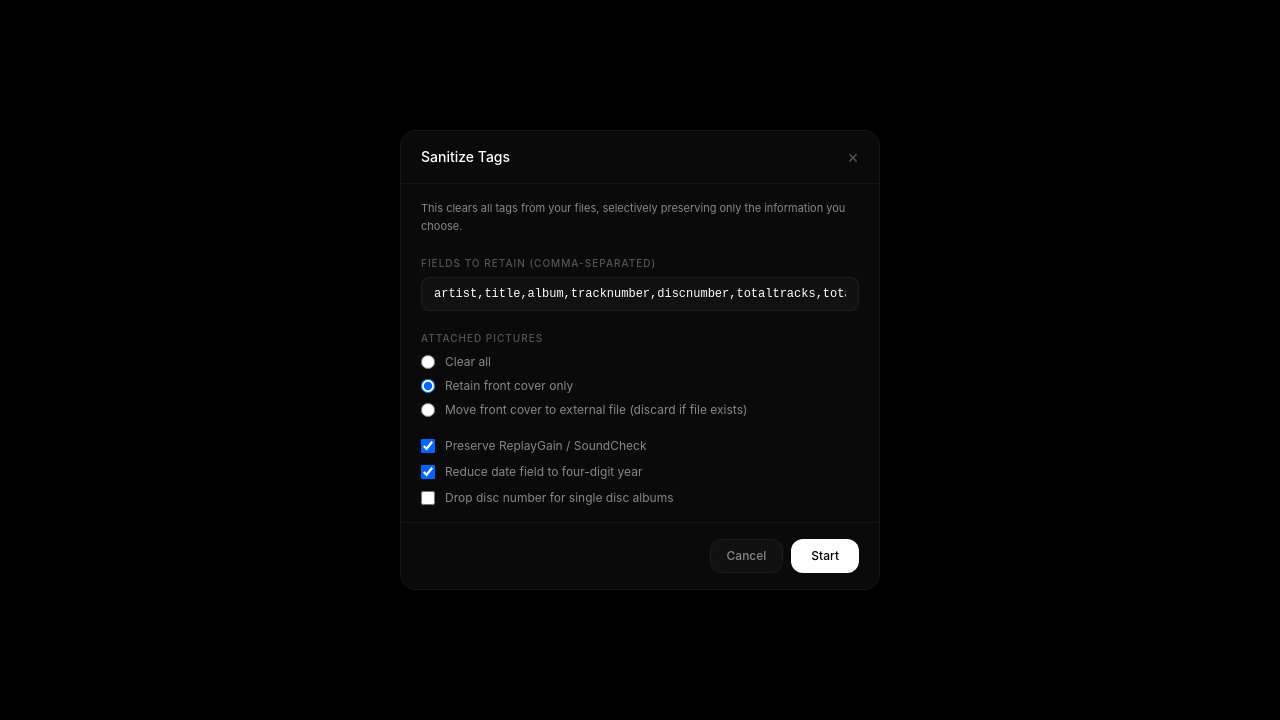
Test: TagSanitizerModal › shows confirmation step after clicking Start
The width and height of the screenshot is (1280, 720).
Click the button "Start".
click(825, 556)  # box [791,539,859,573]
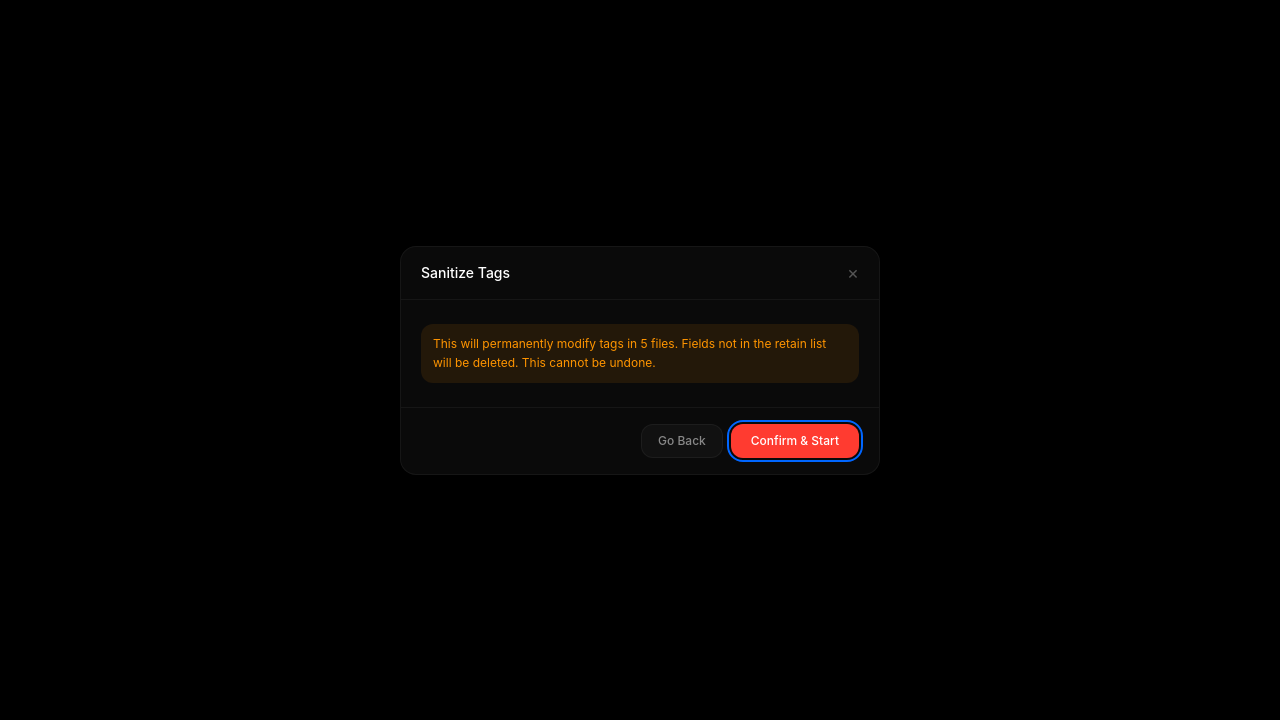
Expected: the text "permanently modify tags in 5 files" is shown, [421,324,859,382]
Expected: the button "Go Back" is shown, [641,424,723,458]
Expected: the button "Confirm & Start" is shown, [731,424,859,458]
